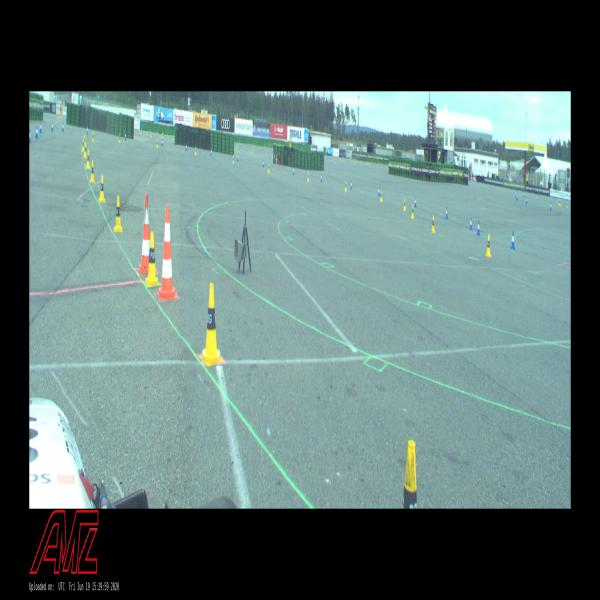blue_cone: (510, 231, 516, 248), (476, 220, 480, 235), (469, 217, 473, 230), (35, 125, 39, 138), (414, 196, 417, 208), (51, 121, 54, 132), (445, 207, 448, 218), (39, 122, 42, 132), (320, 174, 323, 183), (86, 126, 89, 134), (62, 122, 64, 132), (378, 186, 380, 196), (350, 180, 352, 190), (161, 138, 163, 147), (237, 153, 239, 162), (186, 142, 188, 150), (550, 202, 552, 210), (30, 129, 31, 143), (523, 192, 525, 198), (263, 159, 264, 168), (211, 147, 212, 156), (293, 166, 294, 175), (526, 196, 527, 204)
large_orange_cone: (157, 206, 178, 300), (138, 194, 150, 274)
yellow_cone: (200, 283, 223, 366), (401, 440, 418, 509), (144, 231, 160, 286), (114, 195, 123, 232), (99, 175, 106, 203), (485, 233, 491, 257), (90, 160, 96, 184), (430, 214, 436, 233), (86, 150, 90, 169), (410, 204, 414, 219), (84, 143, 87, 158), (403, 198, 406, 211), (380, 190, 383, 202), (82, 139, 85, 151), (307, 171, 310, 182), (345, 180, 347, 192), (268, 163, 270, 173), (119, 133, 121, 143), (92, 132, 94, 142), (194, 146, 196, 155), (233, 154, 234, 164), (157, 139, 158, 148)
